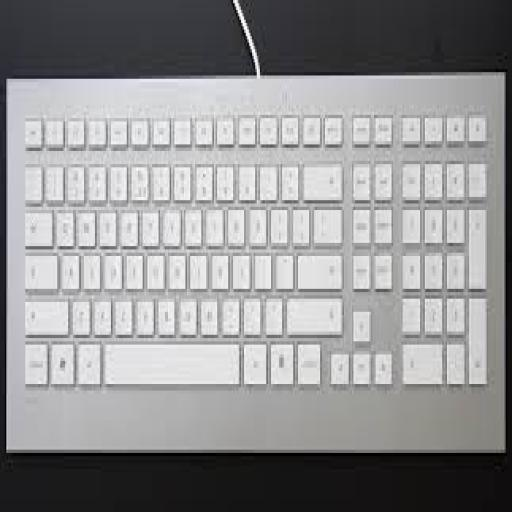KEYBOARD-2: (8, 72, 504, 446)
